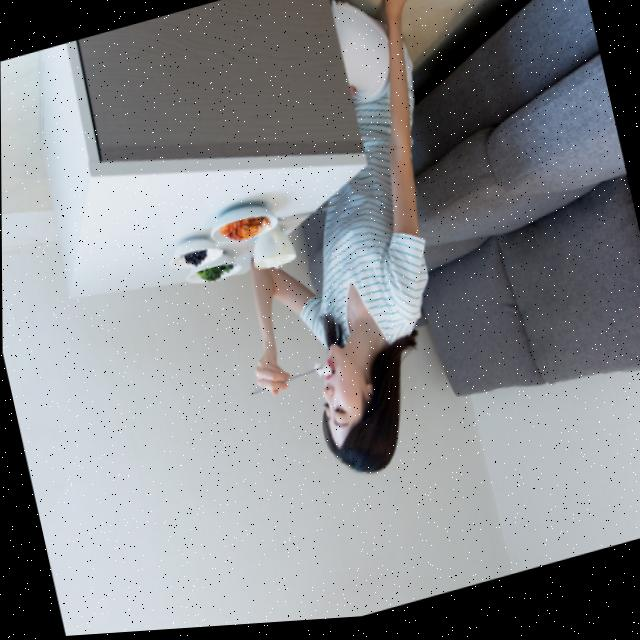eating-person: (107, 0, 553, 545)
